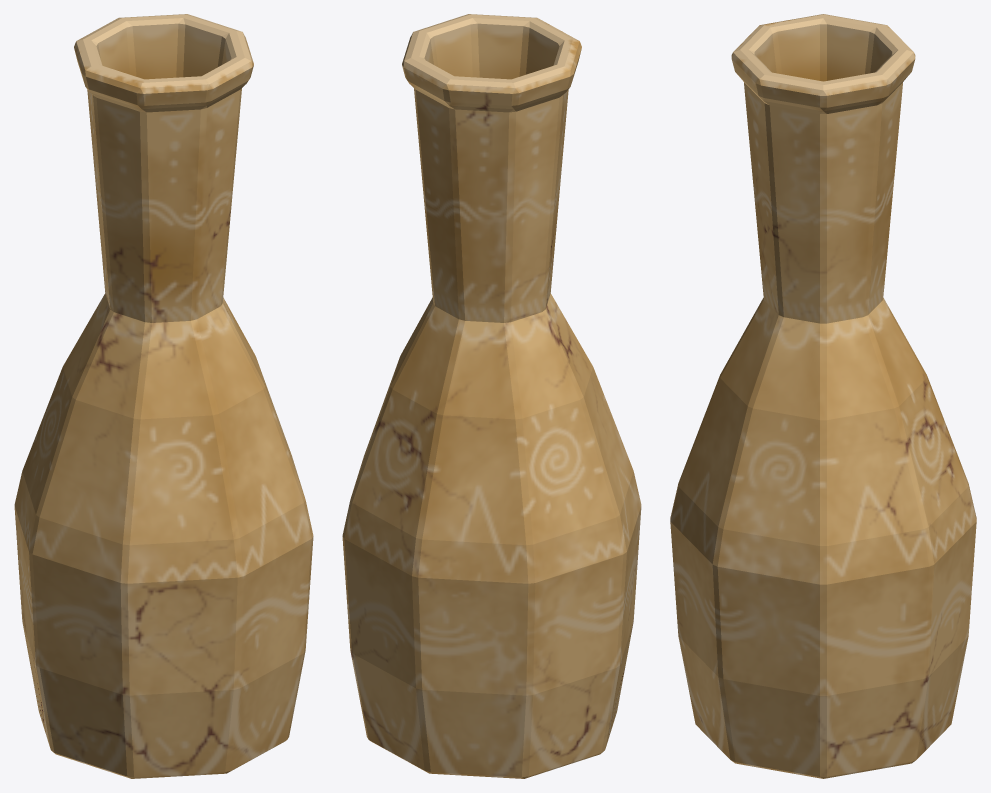
Rendered from vase1.fbx.
The picture shows the model from 3 angles, left to right: view 1: azimuth 30°, elevation 25°; view 2: azimuth 150°, elevation 25°; view 3: azimuth 270°, elevation 25°; orthographic projection.
Parts seen in each view (by area): view 1: vase1; view 2: vase1; view 3: vase1.
Boxes of the visible parts, x1=… form: vase1: x1=14, y1=14, x2=313, y2=778; vase1: x1=342, y1=14, x2=641, y2=778; vase1: x1=670, y1=14, x2=976, y2=778.
Size of the model in its own units: 27.29 by 66.47 by 27.29.
